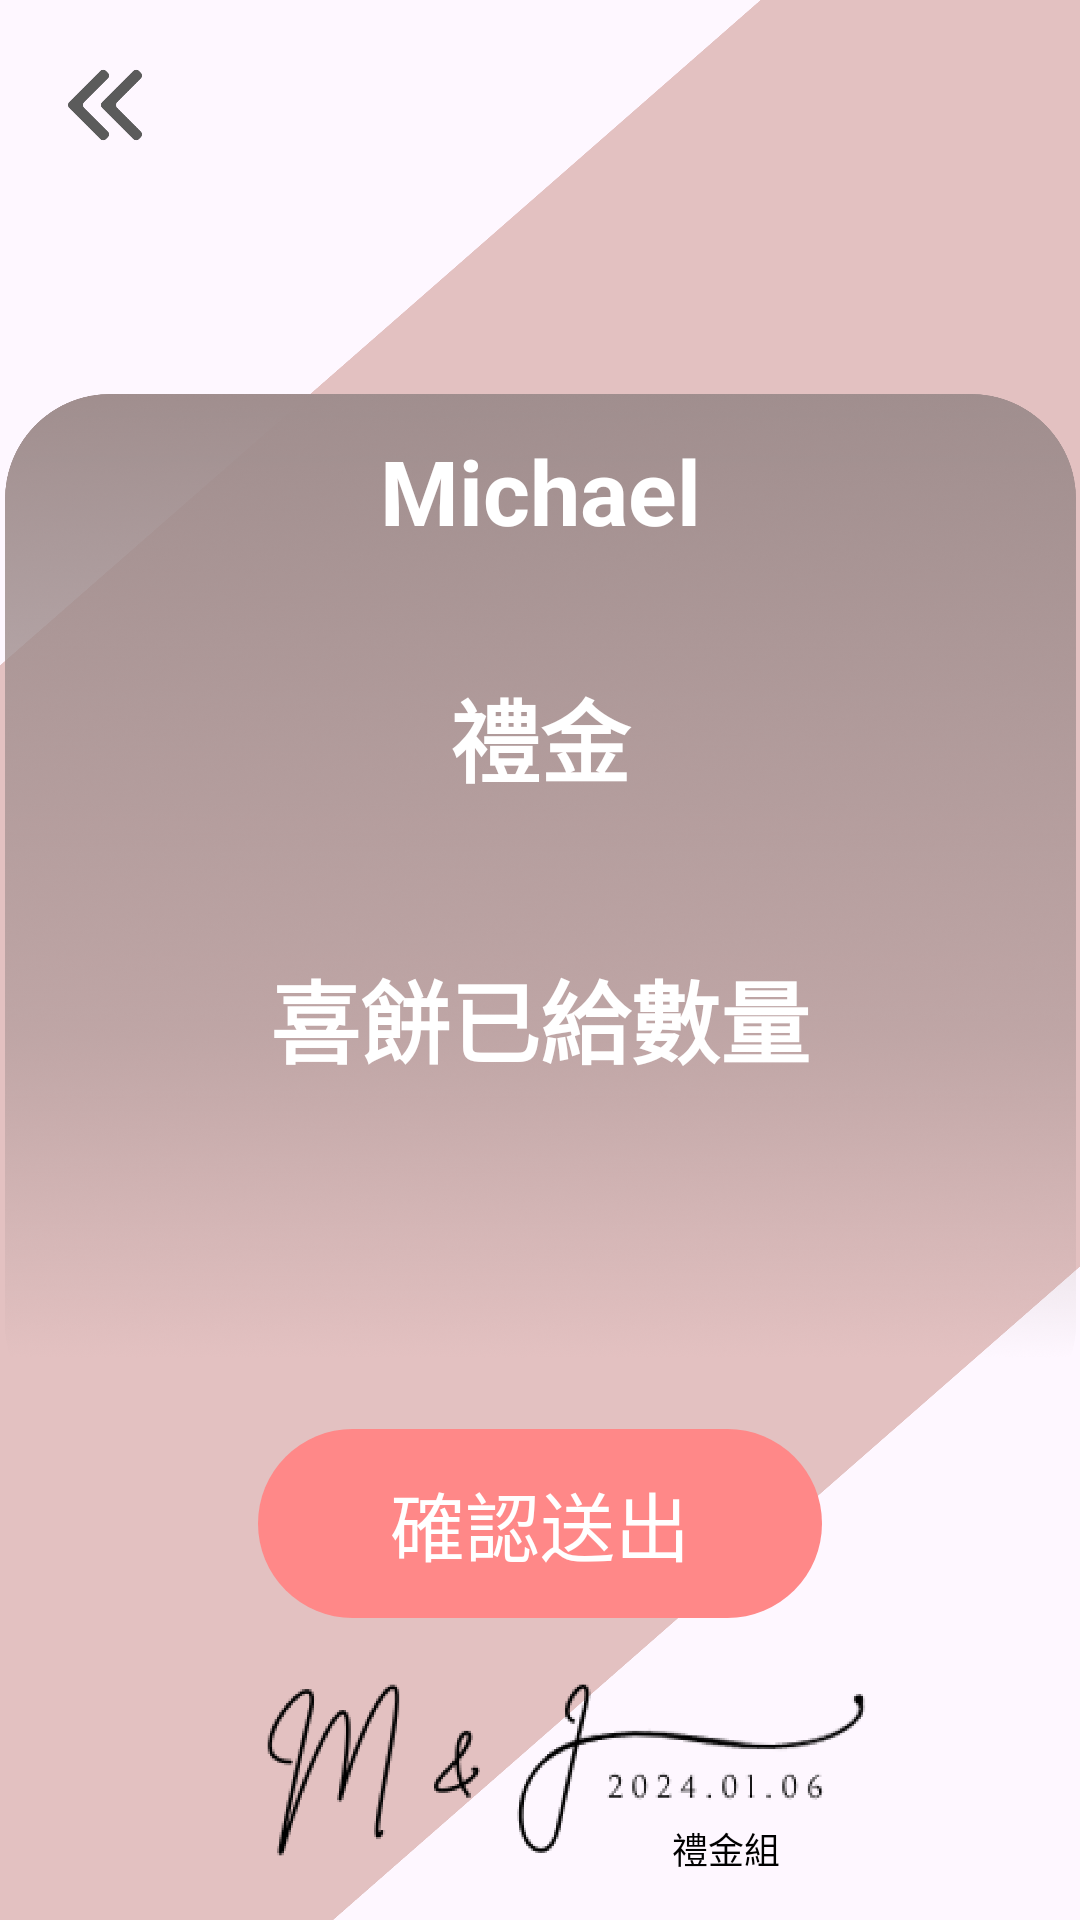

Named icons in this screenshot (1080px×1920px) and their centers, (x,y):
back: (105,105)
